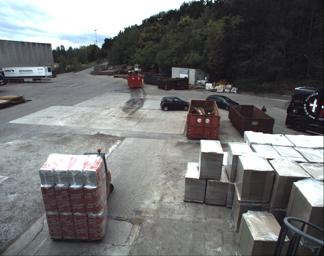rockwool_batts: (39, 153, 107, 240)
